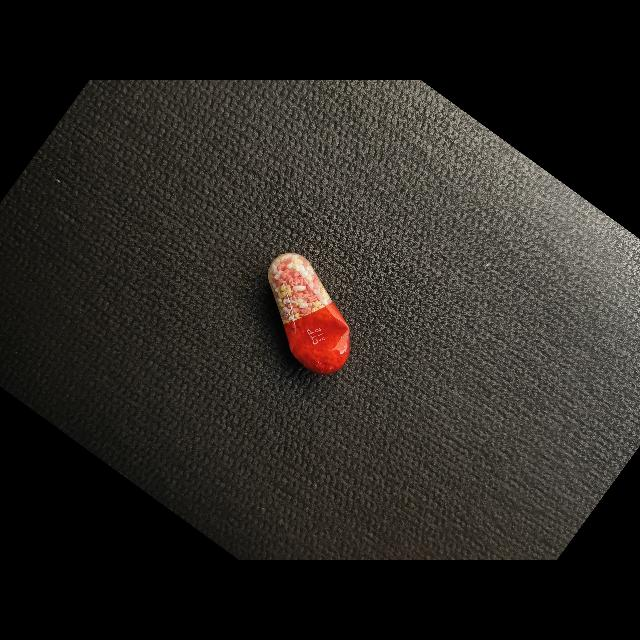Defective Capsule: (268, 253, 350, 374)
